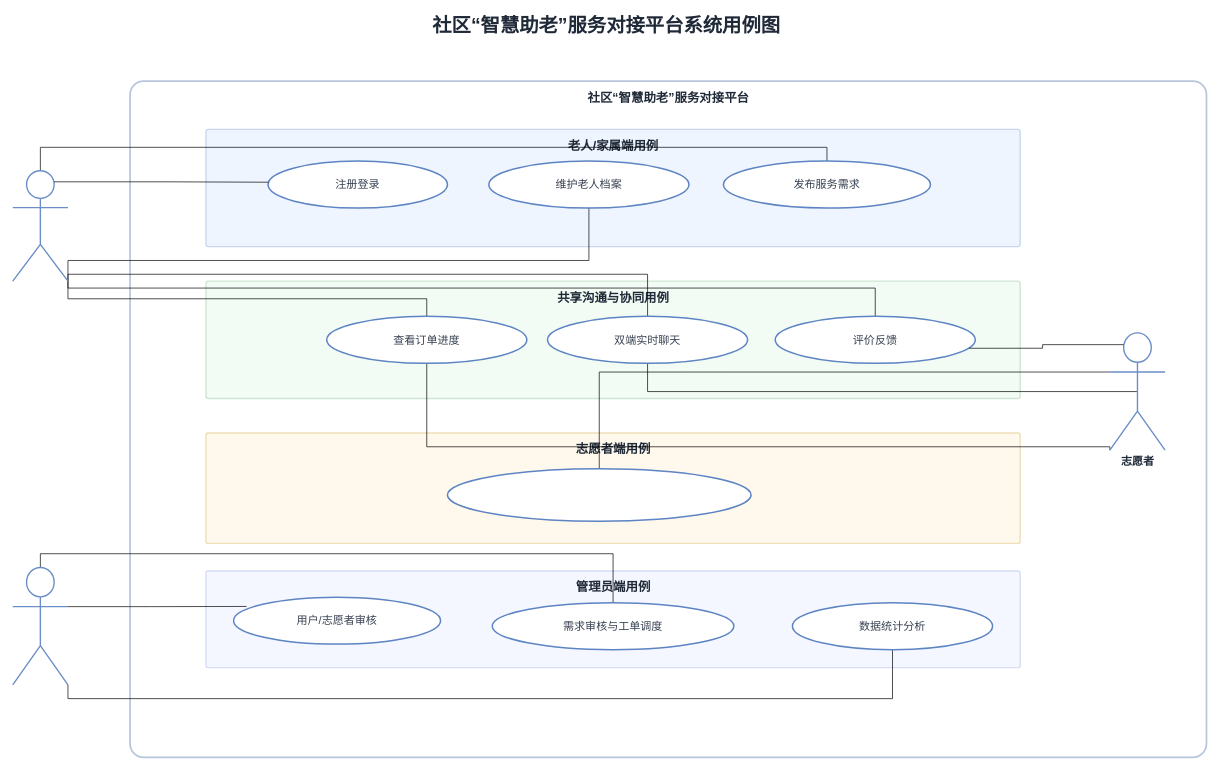
The diagram is 1219 pixels wide and 770 high, and some of its shapes have lost their labels. The shapes that lost their labels are listed below. From the top down, each one's centre as x and y in pixels, then its label:
pixel 40 226: 老人/家属
pixel 598 495: 地图接单、服务执行与积分
pixel 40 625: 管理员
